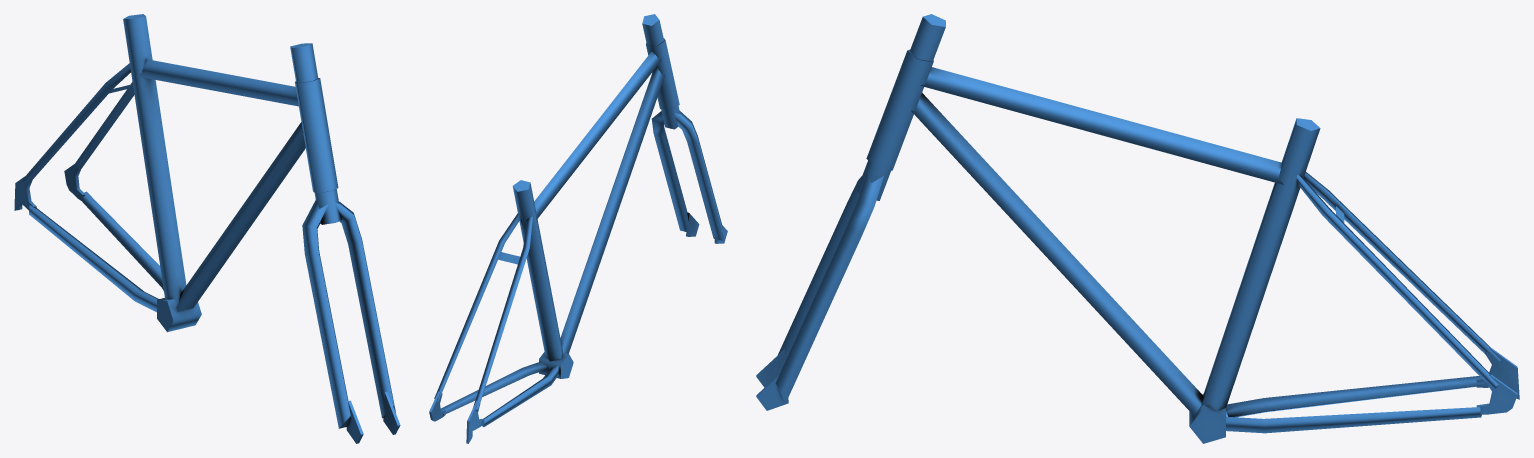
File: Cuadro y Horquilla.FBX
The picture shows the model from 3 angles, left to right: view 1: azimuth 30°, elevation 25°; view 2: azimuth 150°, elevation 25°; view 3: azimuth 270°, elevation 25°; orthographic projection. The views are drawn at different scales.
Parts seen in each view (by area): view 1: Cuadro, Horquilla; view 2: Cuadro, Horquilla; view 3: Cuadro, Horquilla.
Boxes of the visible parts, bbox=[...] form: Cuadro: bbox=[14, 14, 338, 332]; Horquilla: bbox=[290, 43, 400, 443]; Cuadro: bbox=[429, 38, 679, 443]; Horquilla: bbox=[642, 14, 727, 243]; Cuadro: bbox=[866, 49, 1519, 443]; Horquilla: bbox=[756, 14, 945, 410].
Size of the model in its own units: 0.1214 by 0.7547 by 1.24.
1 material, 1 textured.
